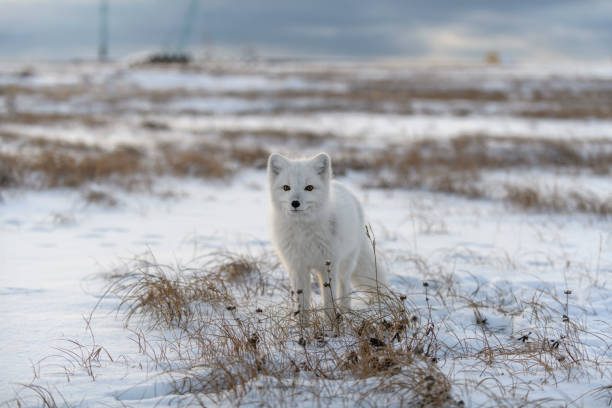arcticfox: (275, 165, 324, 233)
